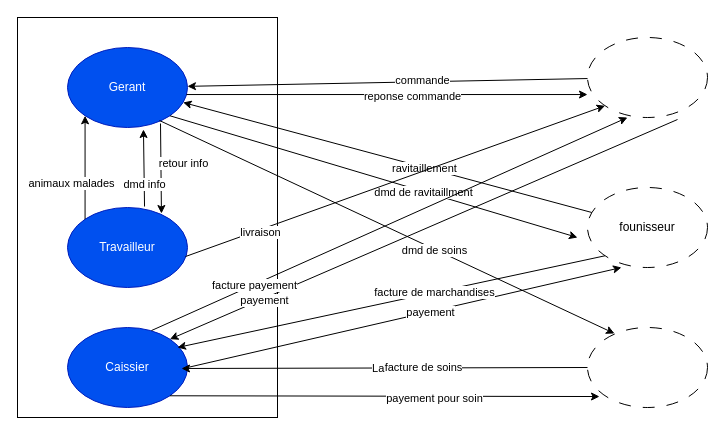
Some shapes in this 725 by 435 pixel diagram are drawn without their labels. Here are the shapes that lost their labels. From the top down, the centre of each, then its label:
At point 647,77: "client".
At point 647,367: "veterinaire".
